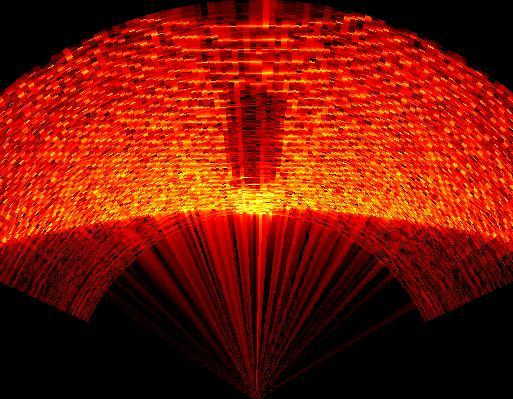box_crate: (218, 79, 287, 217)
